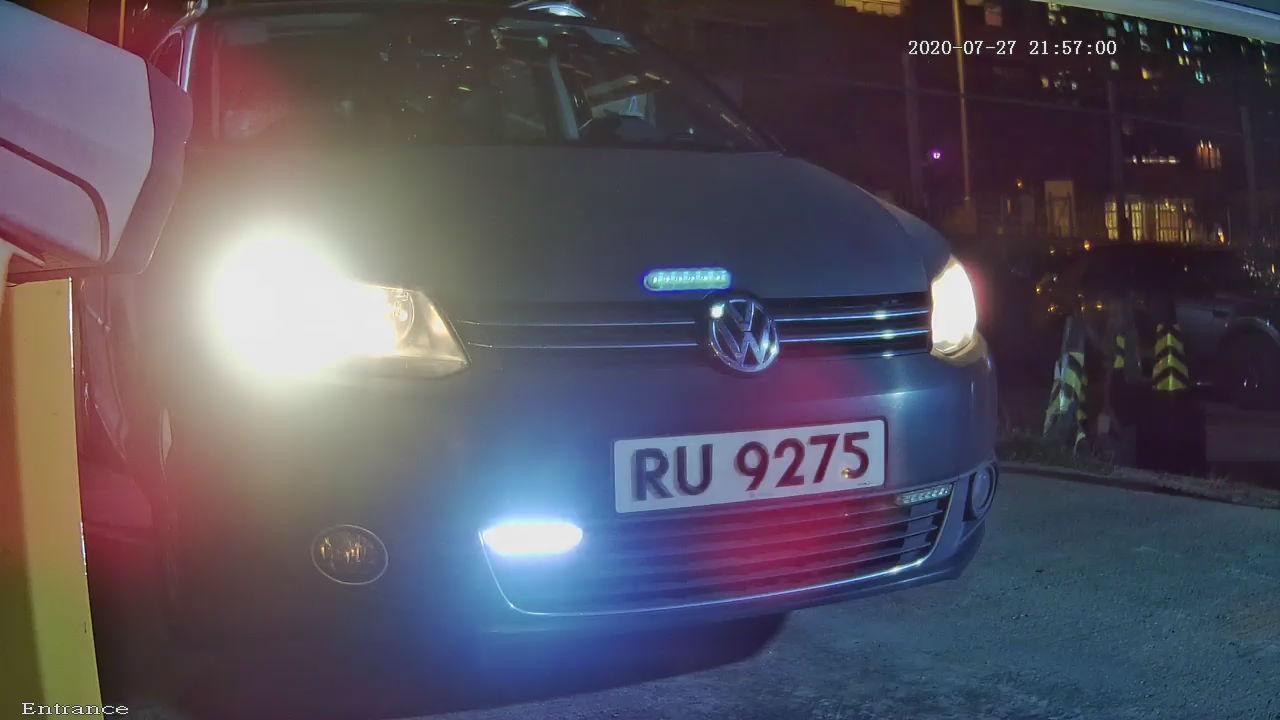privatecar: (125, 43, 1050, 672)
